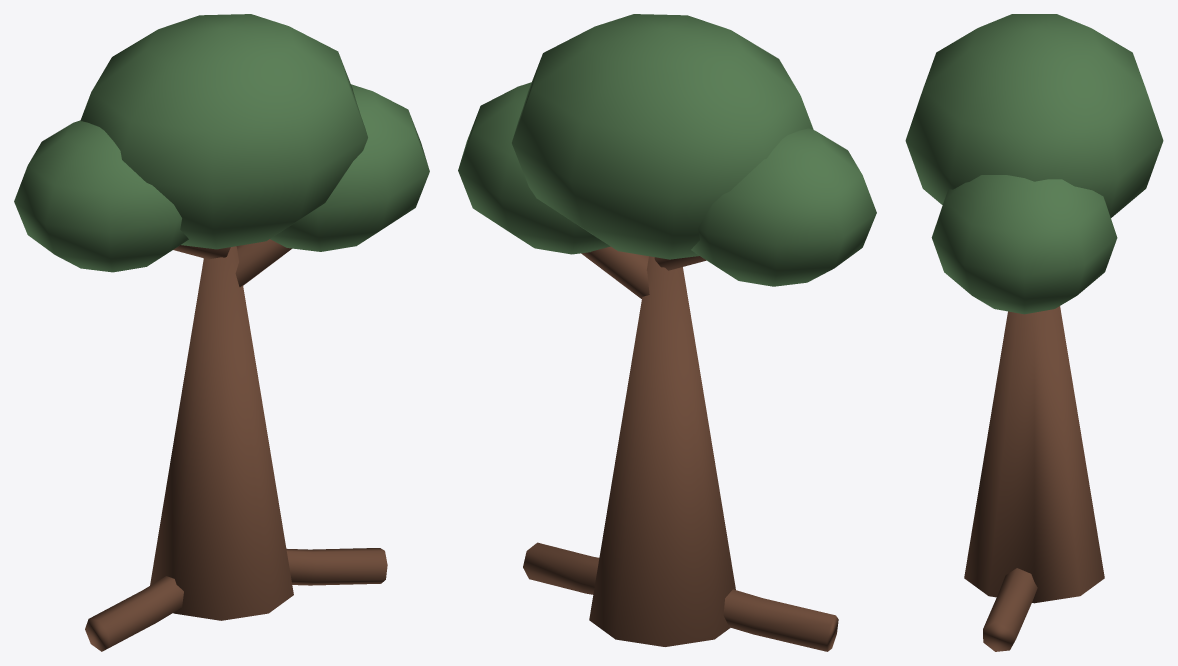
The model's file is tree.rustic.glb.
The picture shows the model from 3 angles, left to right: view 1: azimuth 30°, elevation 25°; view 2: azimuth 150°, elevation 25°; view 3: azimuth 270°, elevation 25°; orthographic projection. The views are drawn at different scales.
Parts seen in each view (by area): view 1: tree.crown, trunk.main, tree.crown.west, tree.crown.east, tree.root.west, tree.root.east, tree.branch.east; view 2: tree.crown, trunk.main, tree.crown.west, tree.crown.east, tree.root.west, tree.root.east, tree.branch.east; view 3: tree.crown, trunk.main, tree.crown.east, tree.root.east.
Part boxes in pixels (x1,y1,x2,y2): tree.crown: (80,14,367,249); trunk.main: (150,246,293,620); tree.crown.west: (14,120,188,272); tree.crown.east: (270,84,429,251); tree.root.west: (85,576,183,651); tree.root.east: (286,548,387,585); tree.branch.east: (235,239,291,286); tree.crown: (512,14,813,259); trunk.main: (589,256,735,646); tree.crown.west: (691,128,876,286); tree.crown.east: (458,82,610,254); tree.root.west: (723,589,838,651); tree.root.east: (523,542,599,594); tree.branch.east: (581,246,649,298); tree.crown: (905,14,1163,217); trunk.main: (964,306,1104,603); tree.crown.east: (931,175,1117,314); tree.root.east: (983,568,1037,651).
Bounding box in the file's own units: 2.16 × 3.09 × 1.3.
